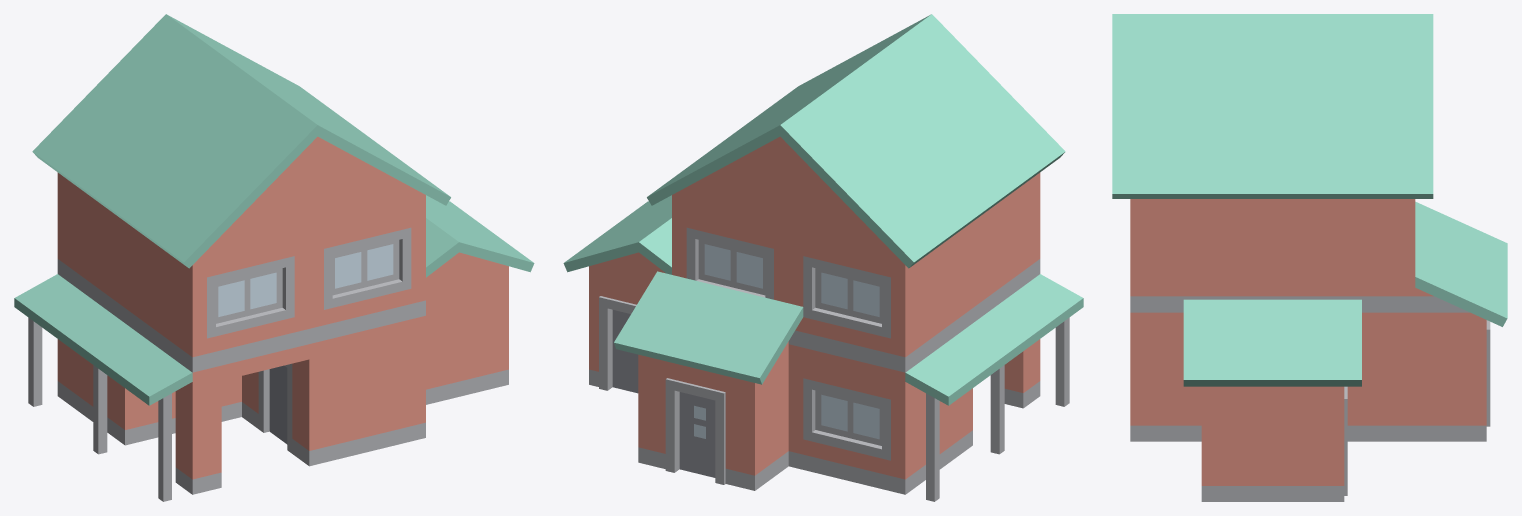
The model's file is house17.fbx.
3 renders of one model, left to right at view 1: azimuth 30°, elevation 25°; view 2: azimuth 150°, elevation 25°; view 3: azimuth 270°, elevation 25°, orthographic. The views are drawn at different scales.
Visible parts, largest first — view 1: house_type17; view 2: house_type17; view 3: house_type17.
Boxes of the visible parts, x1,y1,x2,y2 form: house_type17: (14,14,534,501); house_type17: (563,14,1083,501); house_type17: (1112,14,1507,501).
Bounding box in the file's own units: 1406 × 1138 × 1108.
